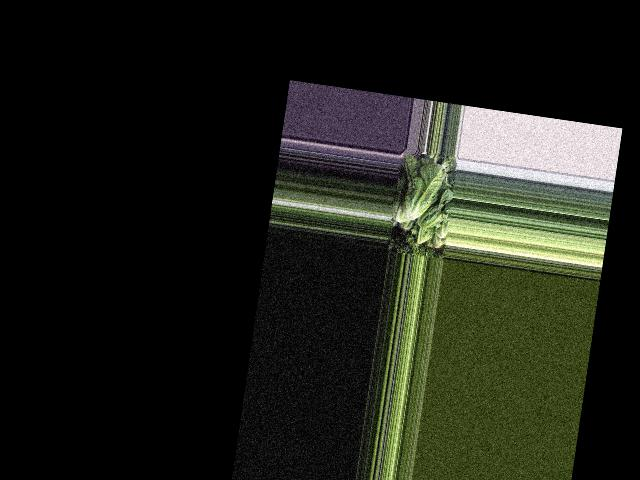lettuce: (417, 183, 452, 233)
